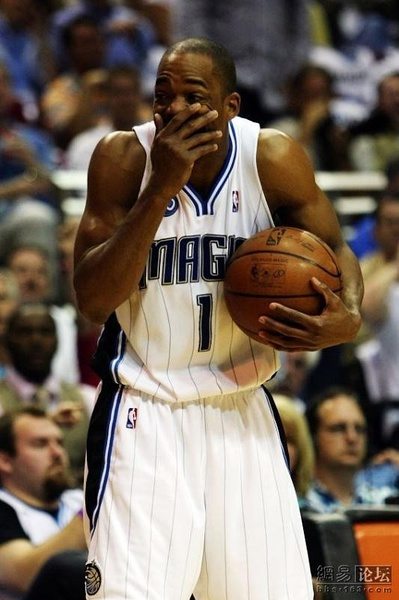face: (154, 57, 219, 161), (14, 414, 67, 493), (318, 399, 365, 470), (15, 309, 52, 373), (14, 253, 50, 298), (110, 75, 134, 120), (380, 205, 398, 249)
